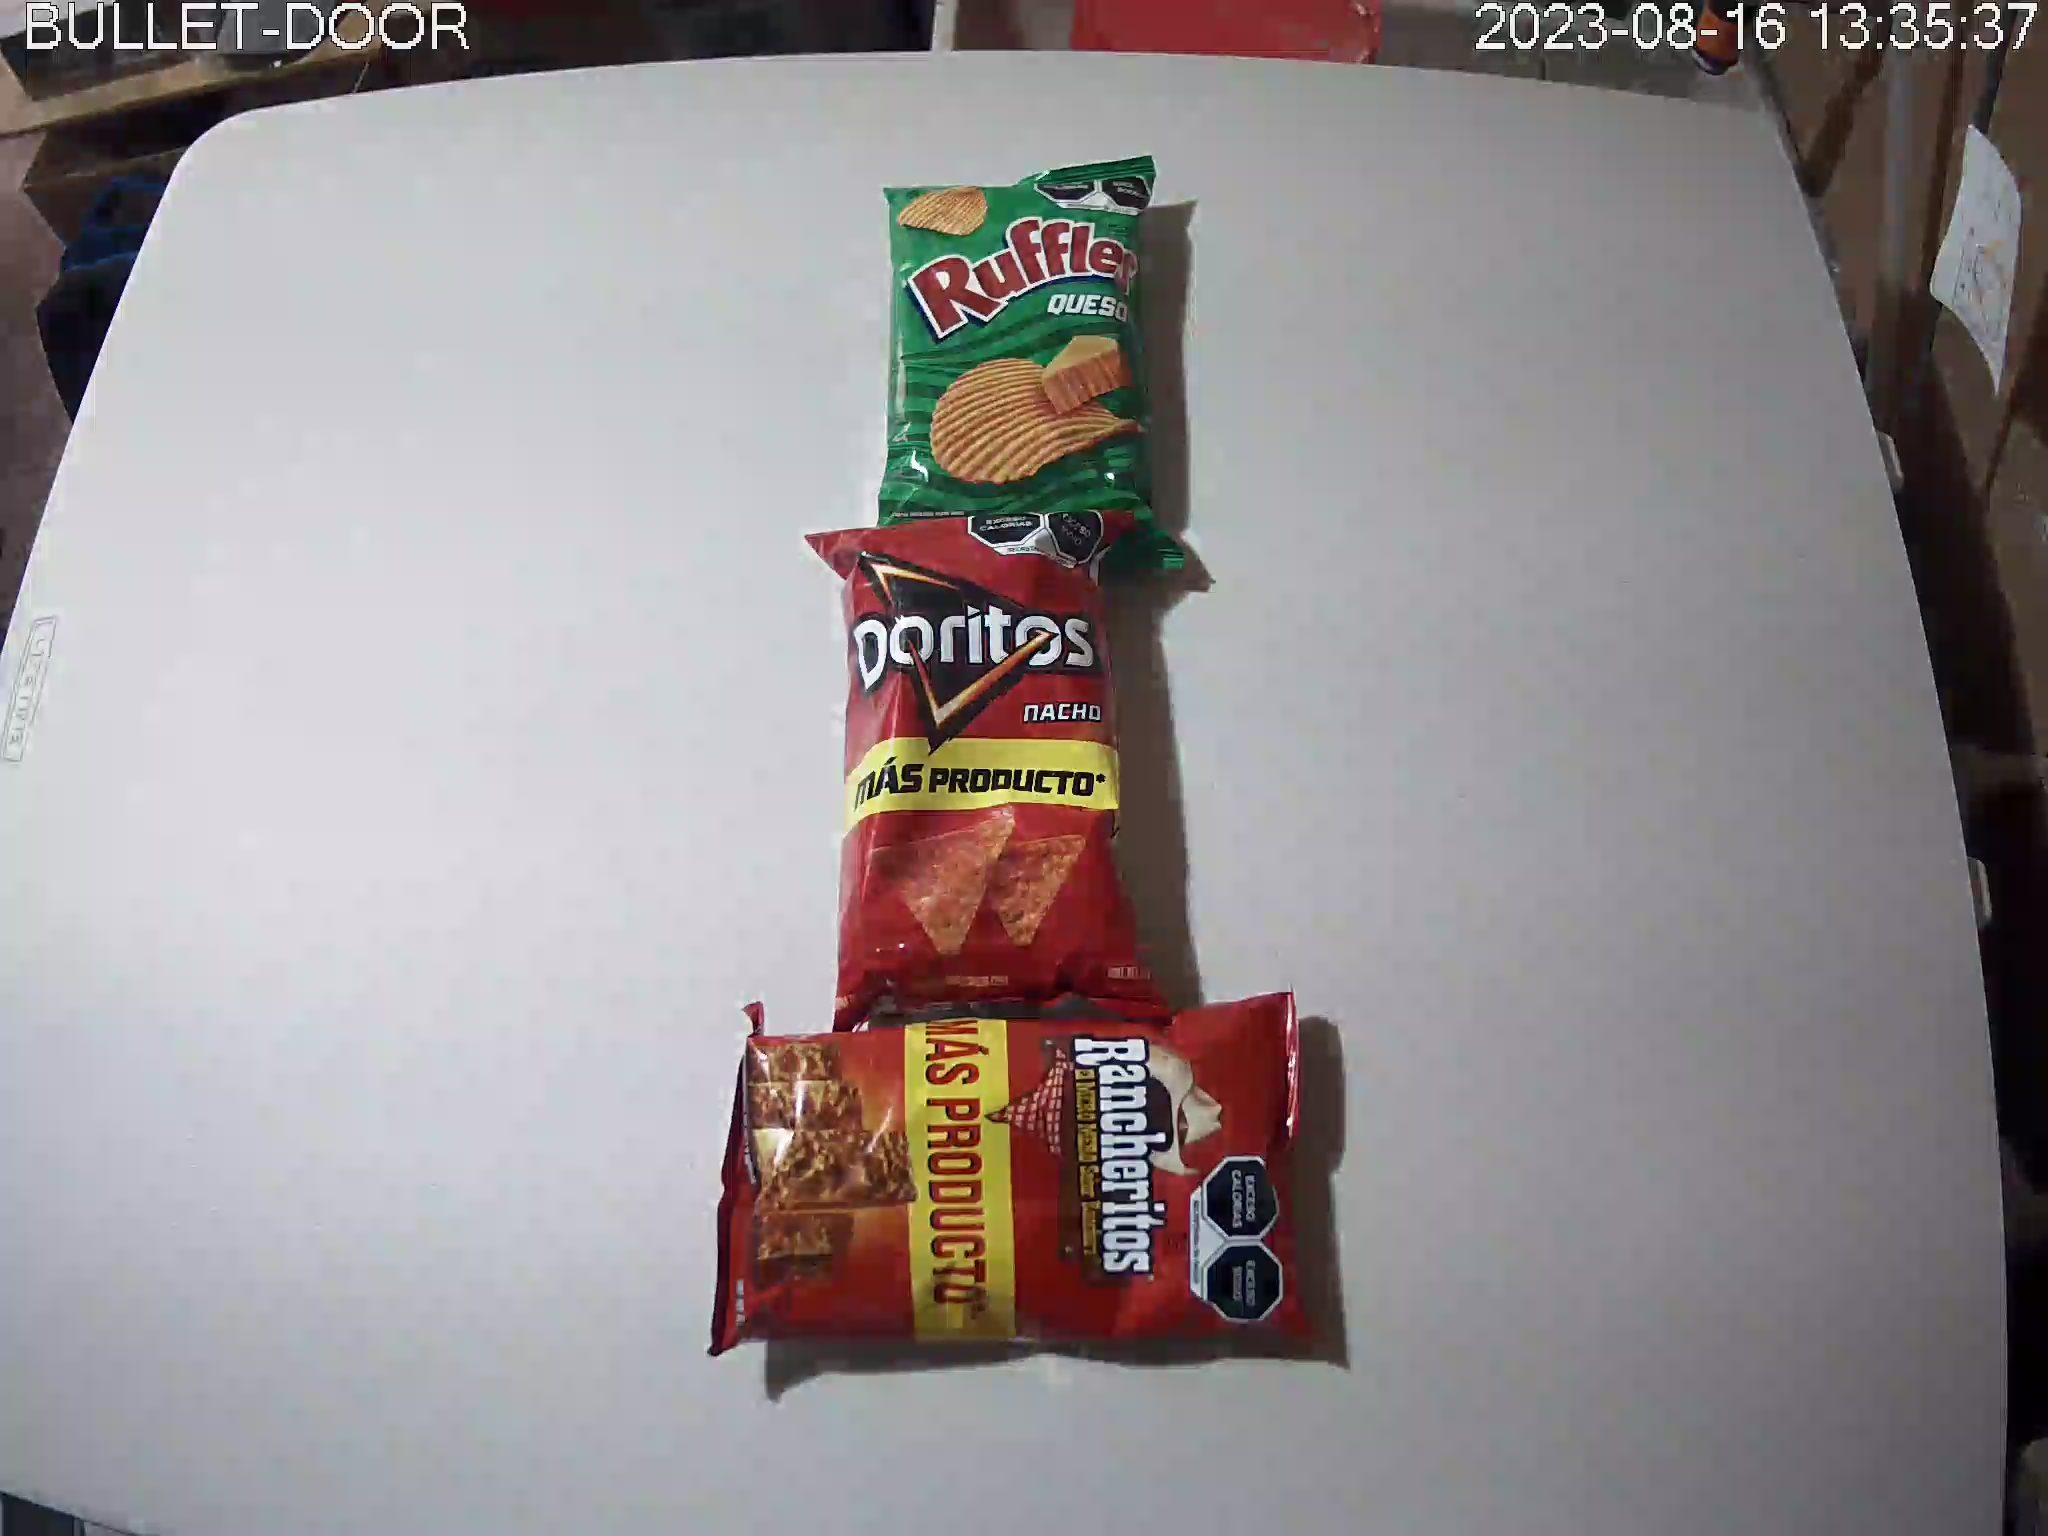DoritosN_61_F: (801, 515, 1171, 1042)
Rancheritos_58_F: (708, 979, 1326, 1357)
RufflesQ_48_F: (879, 153, 1193, 579)
